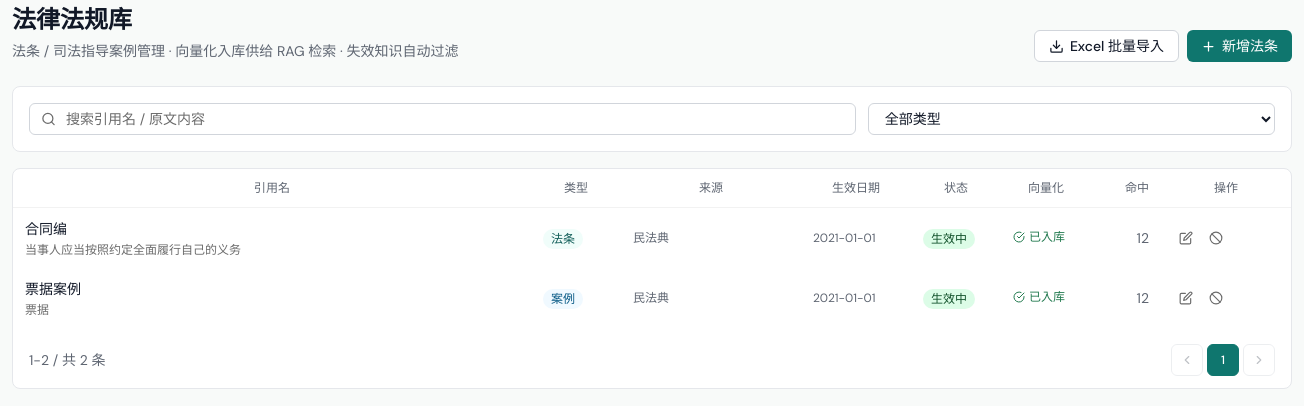
it: LawLibraryView 列表与筛选 › 类型筛选生效
Select "指导案例" in the dropdown at (1071, 119), box [868, 103, 1275, 135]
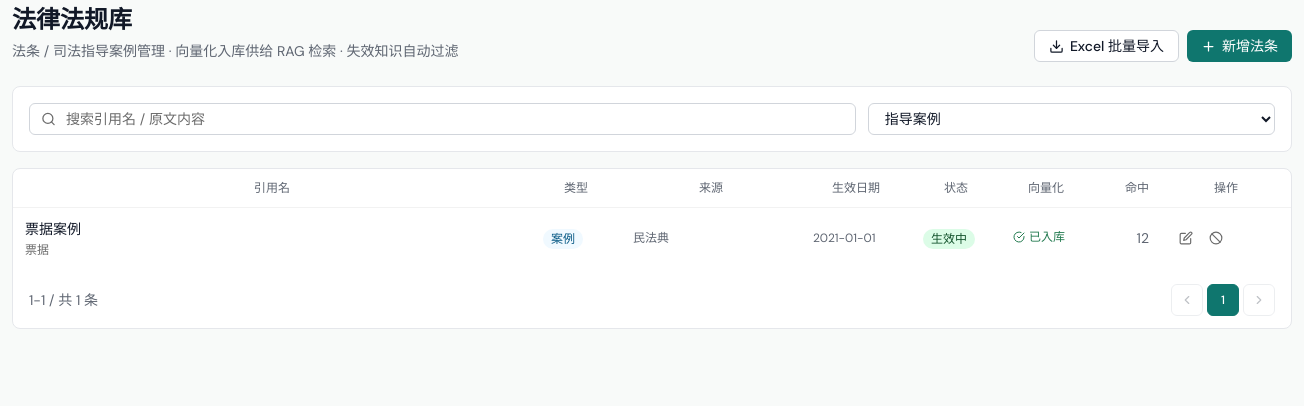
Check: the text "票据案例" is shown, box [25, 218, 81, 240]
Check: the text "合同编" is gone
